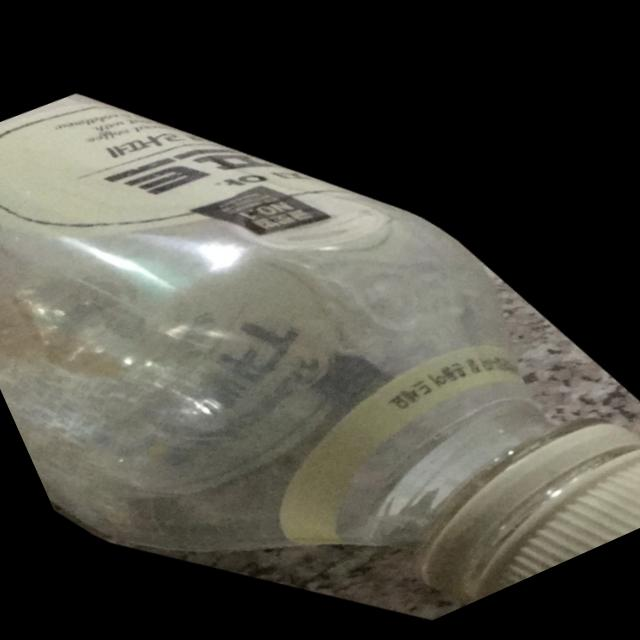plastic: (0, 87, 640, 618)
